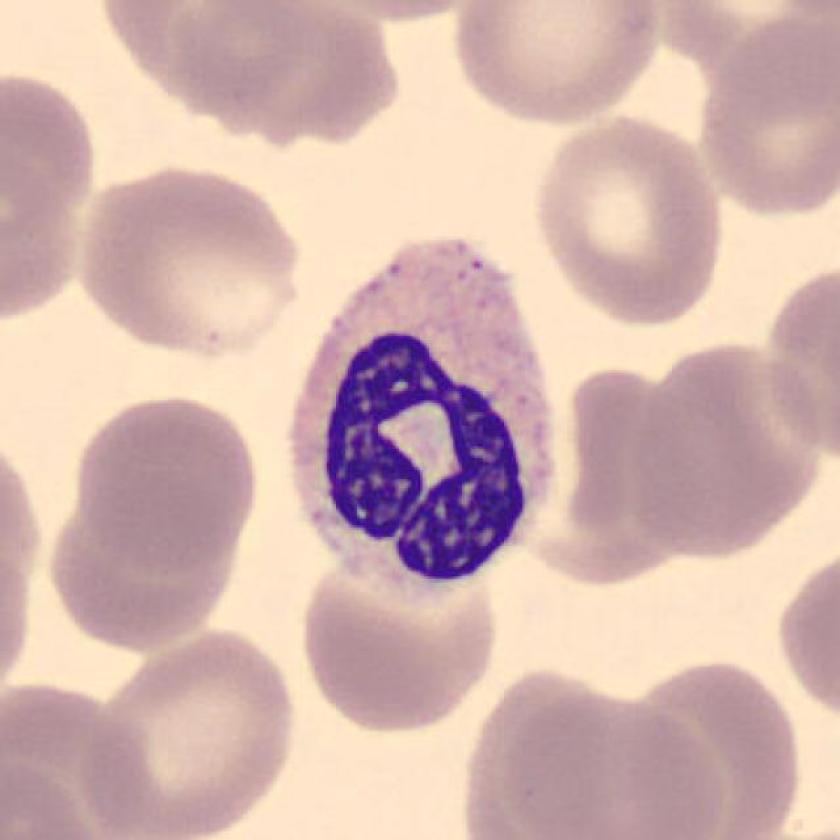neutrophil: (290, 239, 554, 594)
